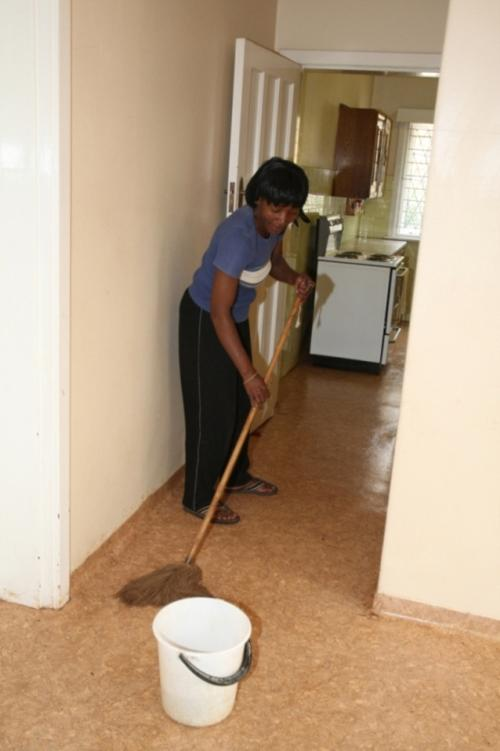person: (178, 155, 315, 528)
